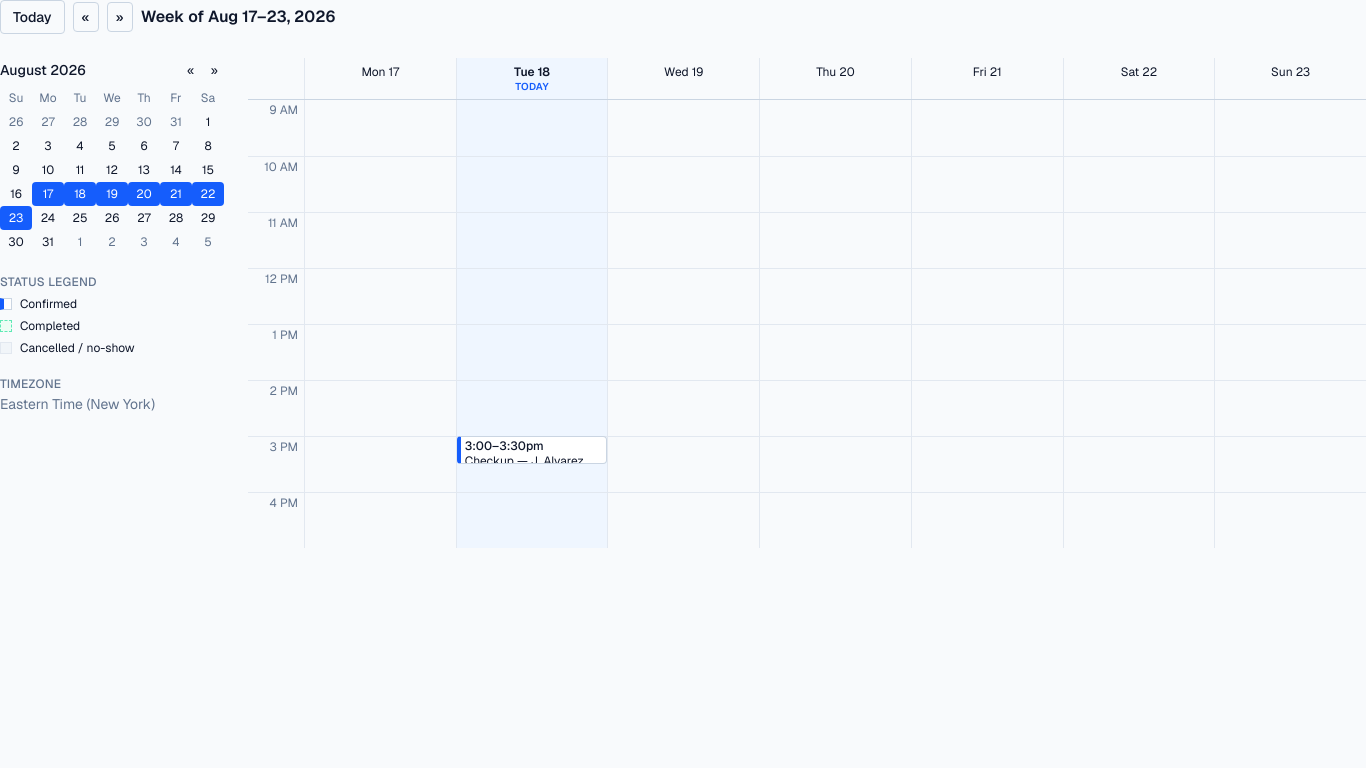
Test case: ProviderCalendar › keeps 'Mark no-show' disabled with a visible reason until the appointment's start time has passed
Click the button with aria-label "Checkup with J. Alvarez, 3:00–3:30pm, CONFIRMED": point(532, 450) [457,436,607,464]
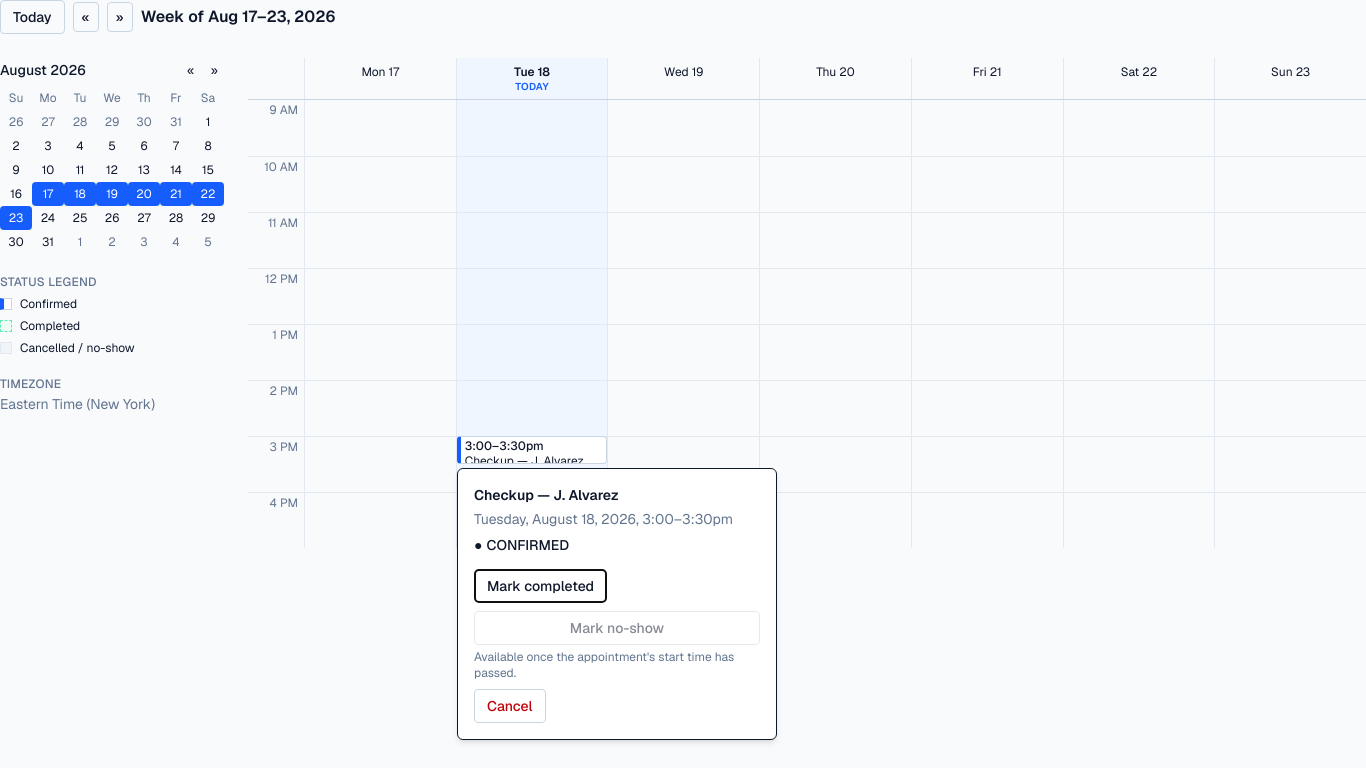
expect the button with aria-label "Mark no-show: Checkup with J. Alvarez, 3:00–3:30pm" is disabled: met, box [474,611,760,645]
expect the text "Available once the appointment's start time has passed." is shown: met, box [474,649,760,681]
